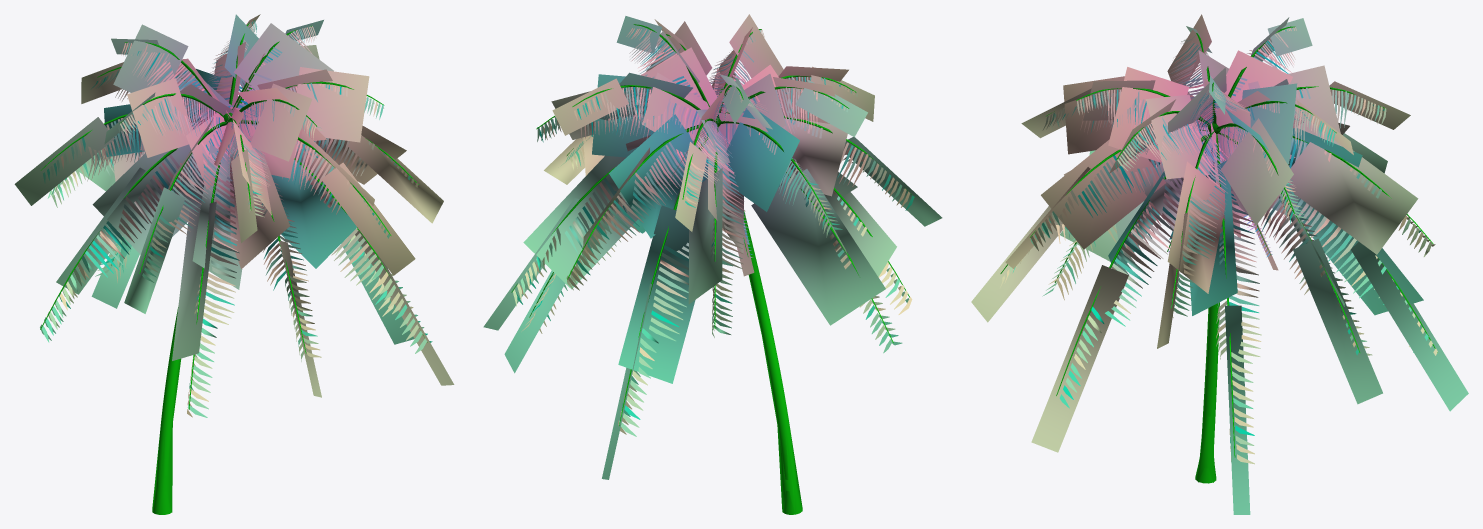
File: coconut_1.glb
3 renders of one model, left to right at view 1: azimuth 30°, elevation 25°; view 2: azimuth 150°, elevation 25°; view 3: azimuth 270°, elevation 25°, orthographic. The views are drawn at different scales.
Visible parts, largest first — view 1: mid, near; view 2: mid, near; view 3: mid, near.
Boxes of the visible parts, bbox=[...] form: mid: bbox=[14, 14, 454, 513]; near: bbox=[40, 20, 432, 514]; mid: bbox=[483, 14, 942, 513]; near: bbox=[511, 24, 914, 514]; mid: bbox=[971, 14, 1468, 514]; near: bbox=[1000, 26, 1437, 483].
Size of the model in its own units: 11.46 by 12.98 by 12.38.
